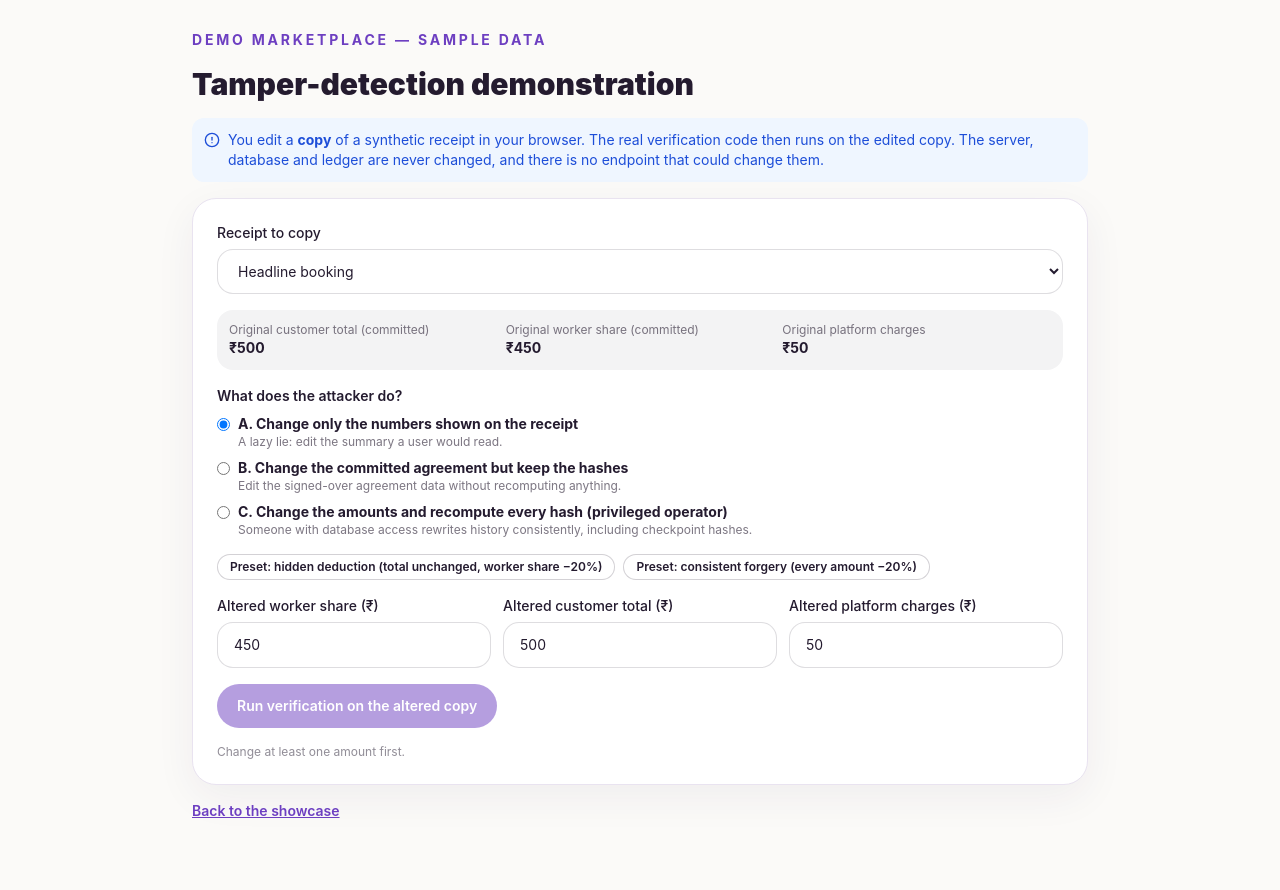
Tamper demonstration page › consistent-forgery mode explains the limits instead of pretending local hashes are enough
Expected: the element with test id "td-original" is shown, left=217, top=310, right=1063, bottom=370
Click the radio button labelled "C. Change the amounts and recompute every hash" at (224,512), box left=217, top=506, right=230, bottom=519
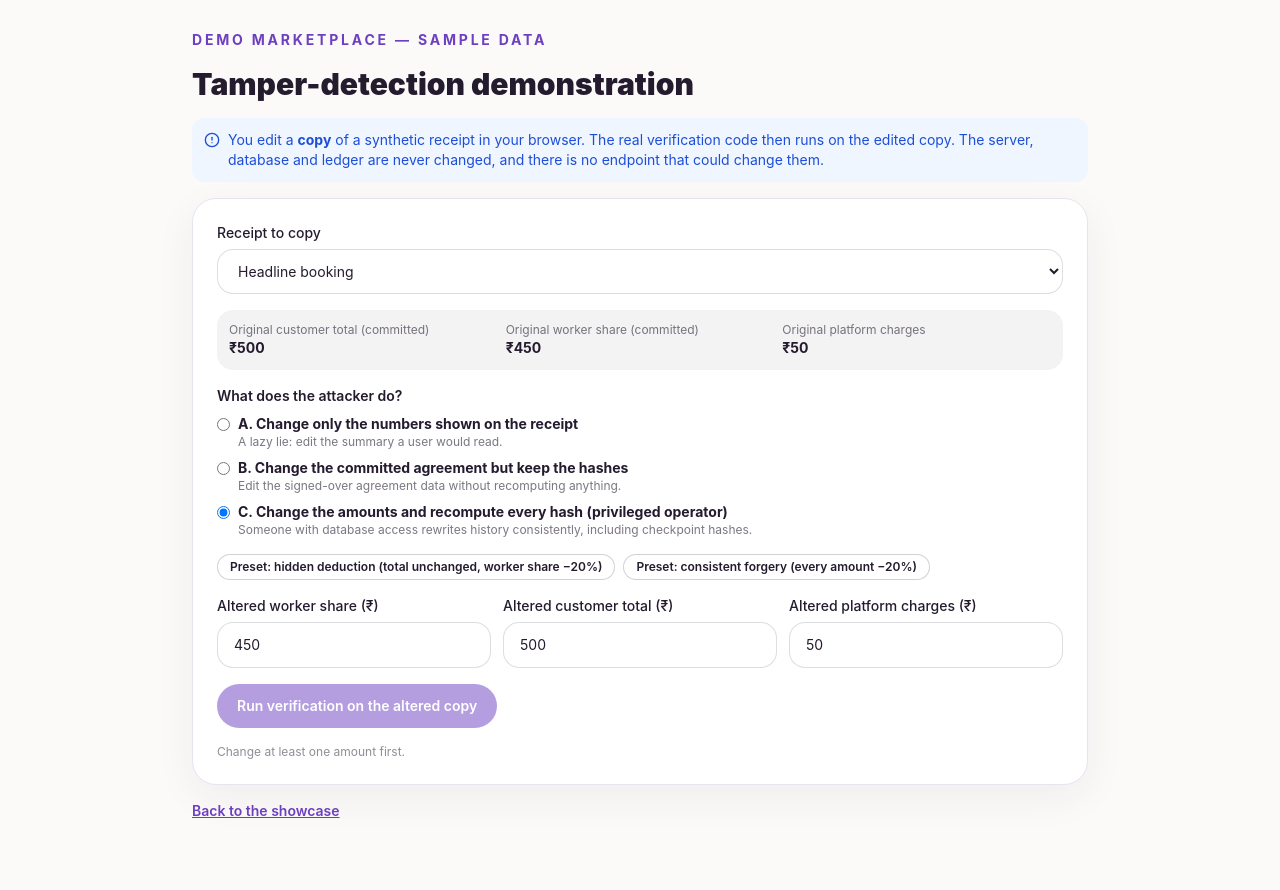
Click the button with test id "preset-consistent" at (777,567), box left=623, top=554, right=930, bottom=580
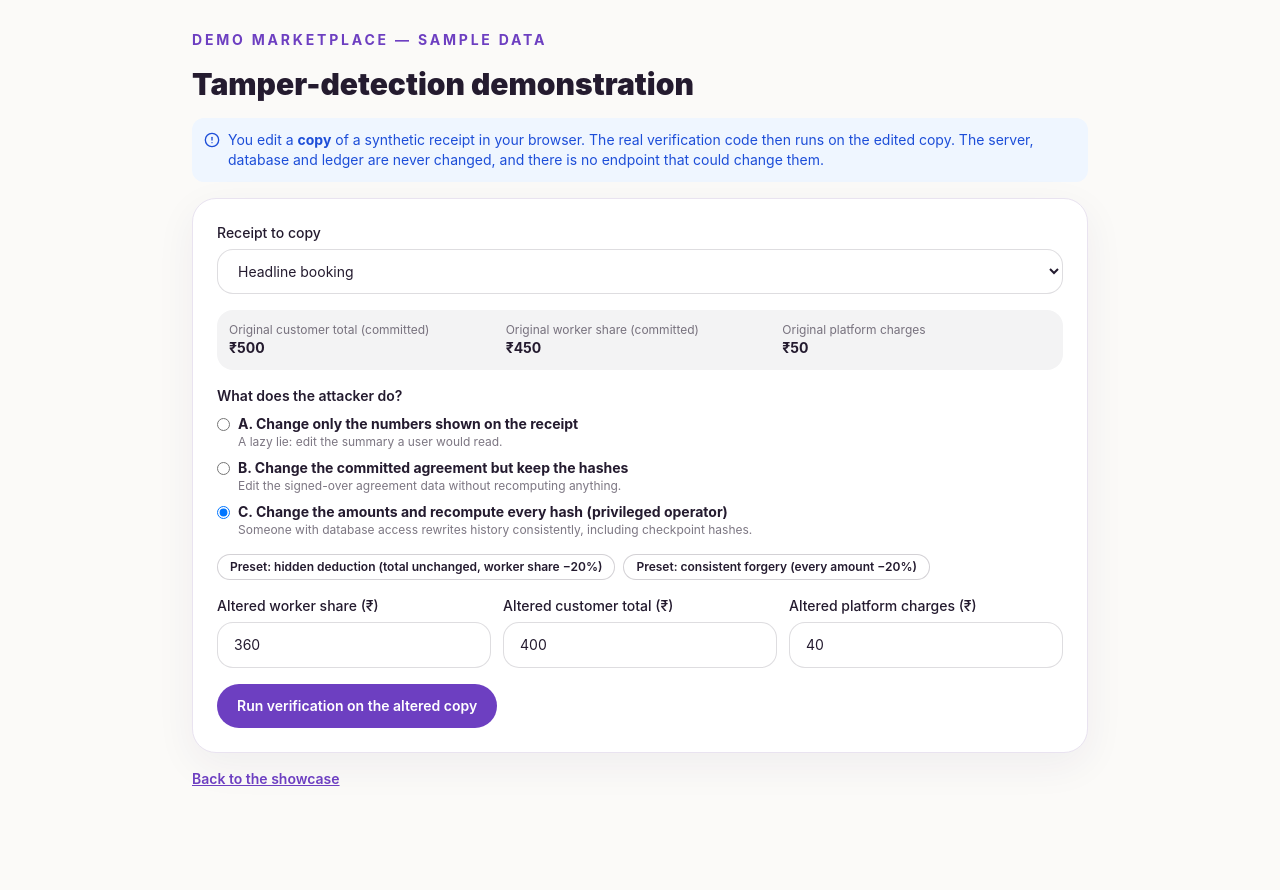
Click the button "Run verification on the altered copy" at (357,706), box left=217, top=684, right=497, bottom=728
(page scrolled)
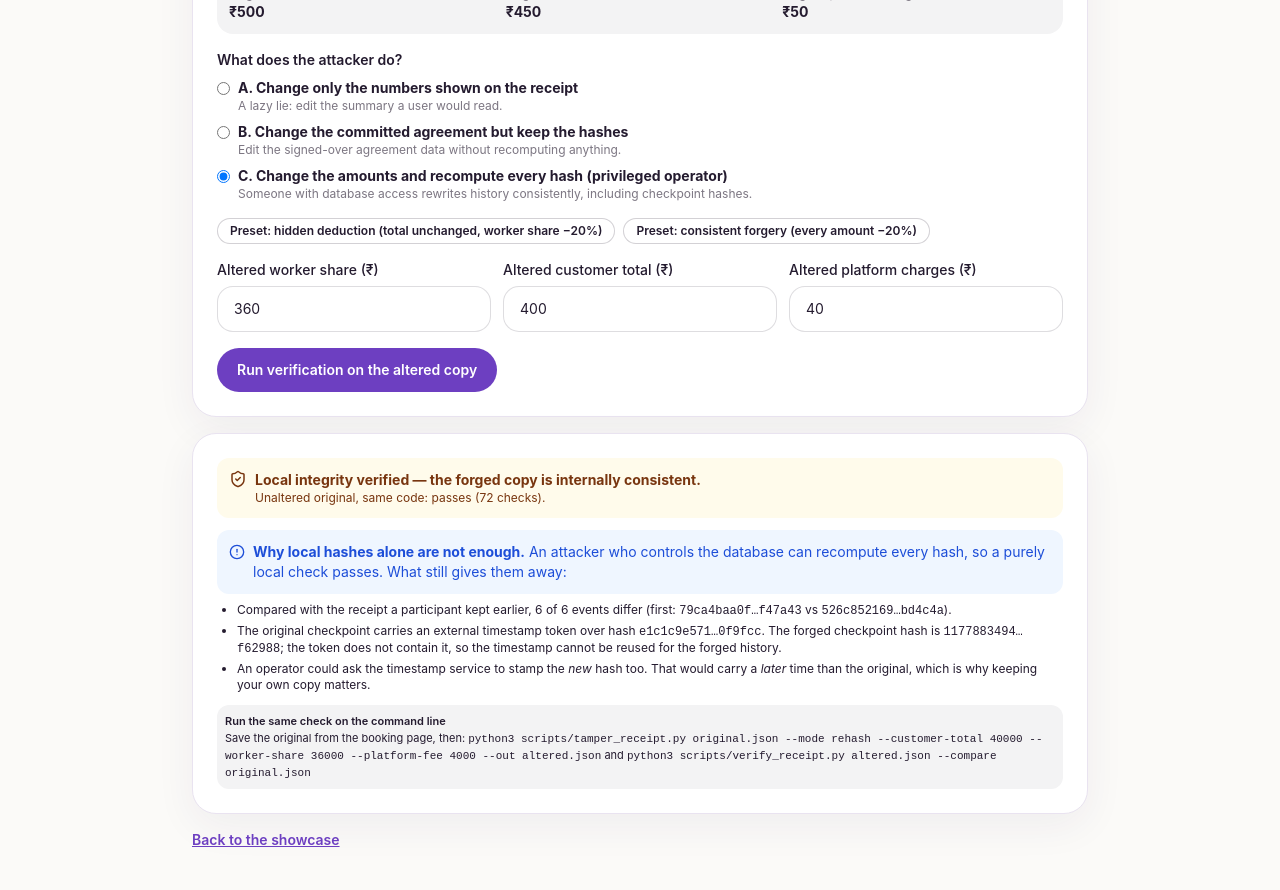
Expected: the text with test id "td-outcome" shows "internally consistent", left=255, top=471, right=701, bottom=488
Expected: the element with test id "td-limits" shows "Why local hashes alone are not enough", left=253, top=543, right=525, bottom=560
Expected: the list item with test id "td-token" shows "does not contain it", left=343, top=640, right=448, bottom=655
